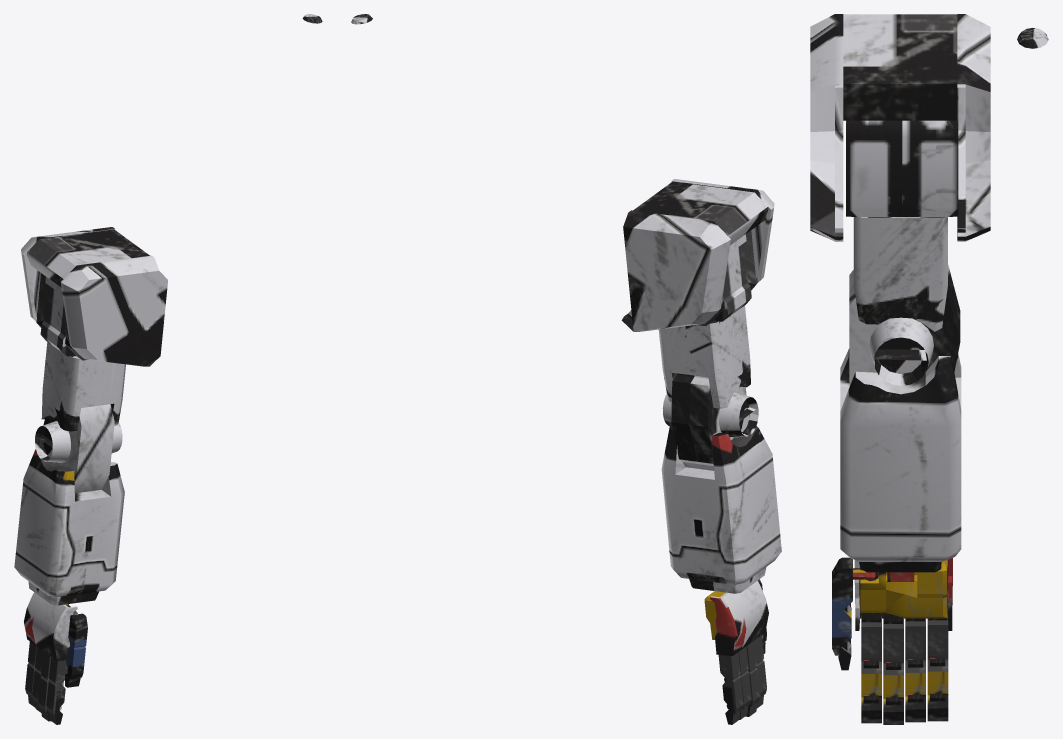
The model's file is handa.obj.
3 views of the same model, side by side, from view 1: azimuth 30°, elevation 25°; view 2: azimuth 150°, elevation 25°; view 3: azimuth 270°, elevation 25° (orthographic). The views are drawn at different scales.
Visible parts, largest first — view 1: Gundam:polySurface666; view 2: Gundam:polySurface666; view 3: Gundam:polySurface666.
Boxes of the visible parts, x1=… form: Gundam:polySurface666: x1=14, y1=14, x2=322, y2=724; Gundam:polySurface666: x1=351, y1=14, x2=781, y2=724; Gundam:polySurface666: x1=810, y1=14, x2=1048, y2=724.
Size of the model in its own units: 9.08 by 15.47 by 3.61.
Materials: 1 (1 with a texture image).
